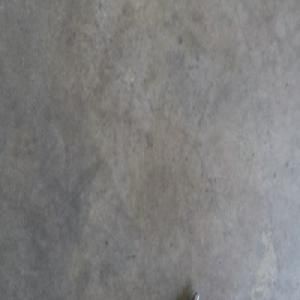Pliers: (191, 292, 203, 299)
